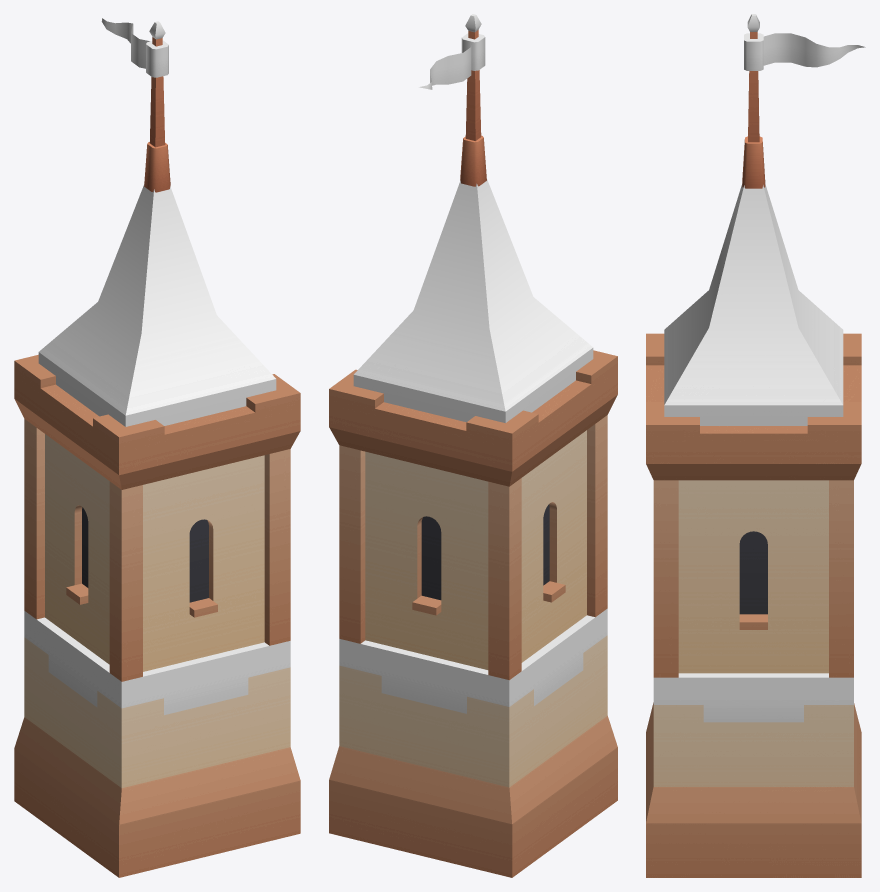
The model's file is castle_small.glb.
The picture shows the model from 3 angles, left to right: view 1: azimuth 30°, elevation 25°; view 2: azimuth 150°, elevation 25°; view 3: azimuth 270°, elevation 25°; orthographic projection. The views are drawn at different scales.
Parts seen in each view (by area): view 1: tower-square-base-color, tower-square-mid-windows, tower-square-top-roof-high, flag-pennant; view 2: tower-square-base-color, tower-square-mid-windows, tower-square-top-roof-high, flag-pennant; view 3: tower-square-top-roof-high, tower-square-base-color, tower-square-mid-windows, flag-pennant.
Boxes of the visible parts, bbox=[...] form: tower-square-base-color: bbox=[14, 611, 300, 877]; tower-square-mid-windows: bbox=[24, 419, 290, 681]; tower-square-top-roof-high: bbox=[14, 184, 300, 489]; flag-pennant: bbox=[101, 18, 170, 192]; tower-square-base-color: bbox=[329, 608, 617, 877]; tower-square-mid-windows: bbox=[339, 415, 607, 680]; tower-square-top-roof-high: bbox=[329, 179, 617, 486]; flag-pennant: bbox=[419, 14, 486, 186]; tower-square-top-roof-high: bbox=[646, 184, 861, 480]; tower-square-base-color: bbox=[646, 673, 861, 877]; tower-square-mid-windows: bbox=[653, 480, 853, 677]; flag-pennant: bbox=[742, 14, 865, 188].
Size of the model in its own units: 1 by 4.19 by 1.02.
4 materials, 4 textured.
